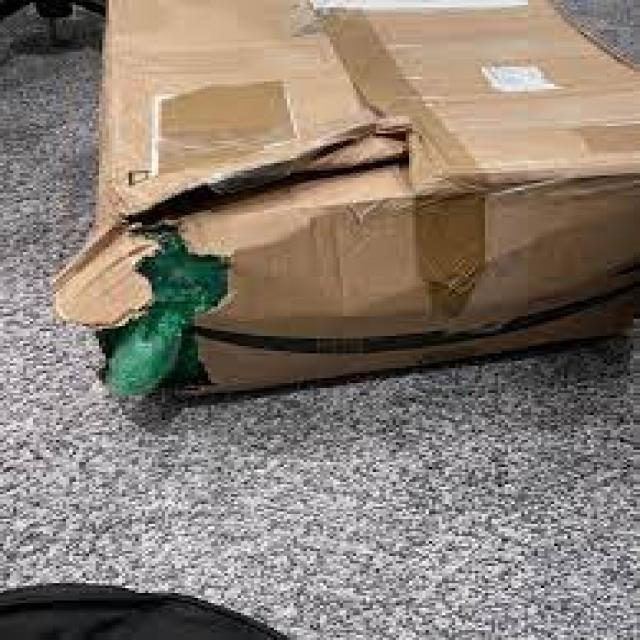Kardus kondisi rusak: (51, 1, 639, 406)
